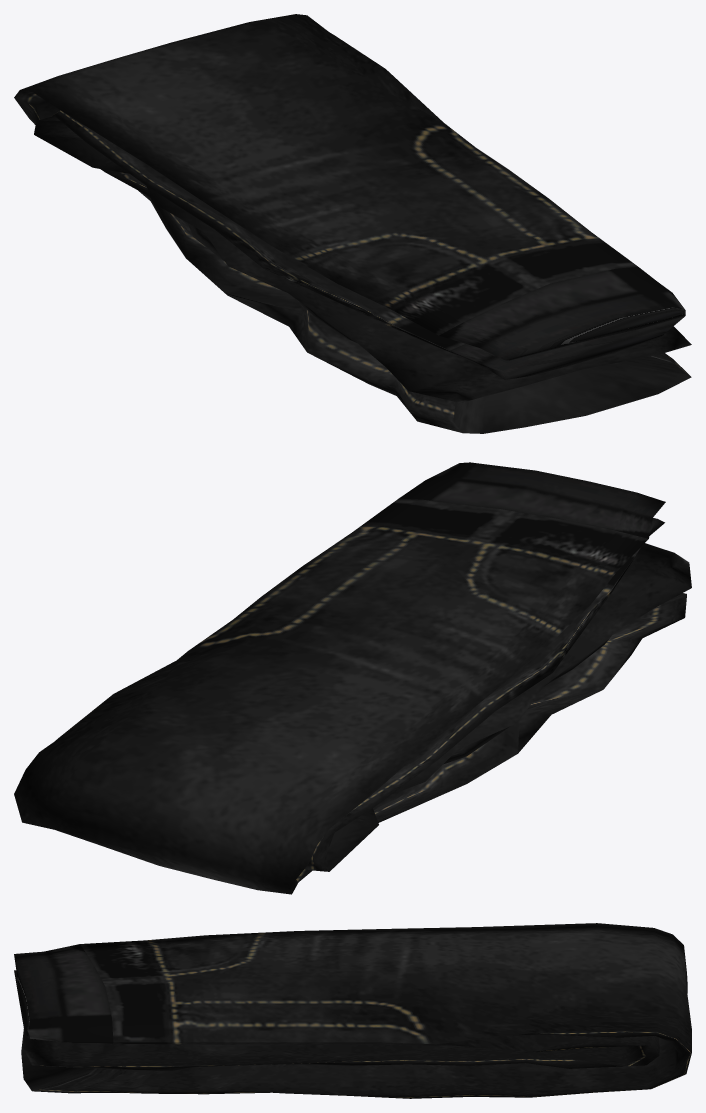
Rendered from Jeans_Black.fbx.
The picture shows the model from 3 angles, top to bottom: view 1: azimuth 30°, elevation 25°; view 2: azimuth 150°, elevation 25°; view 3: azimuth 270°, elevation 25°; orthographic projection. The views are drawn at different scales.
Parts seen in each view (by area): view 1: Jeans_Black; view 2: Jeans_Black; view 3: Jeans_Black.
Boxes of the visible parts, x1,y1,x2,y2 form: Jeans_Black: [14, 14, 691, 433]; Jeans_Black: [14, 462, 691, 894]; Jeans_Black: [14, 923, 691, 1098].
Bounding box in the file's own units: 0.2629 × 0.0783 × 0.6479.
